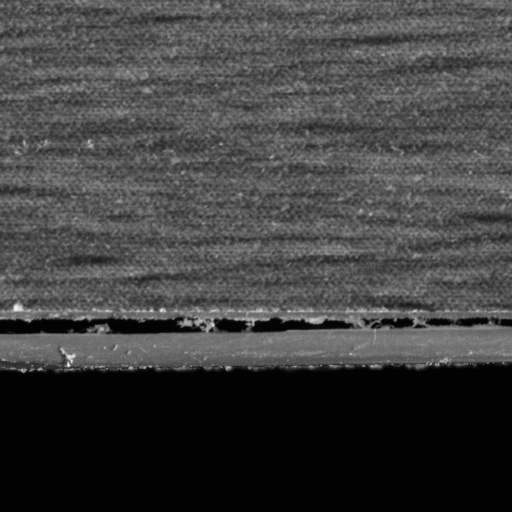kaijiao: (0, 303, 511, 374)
